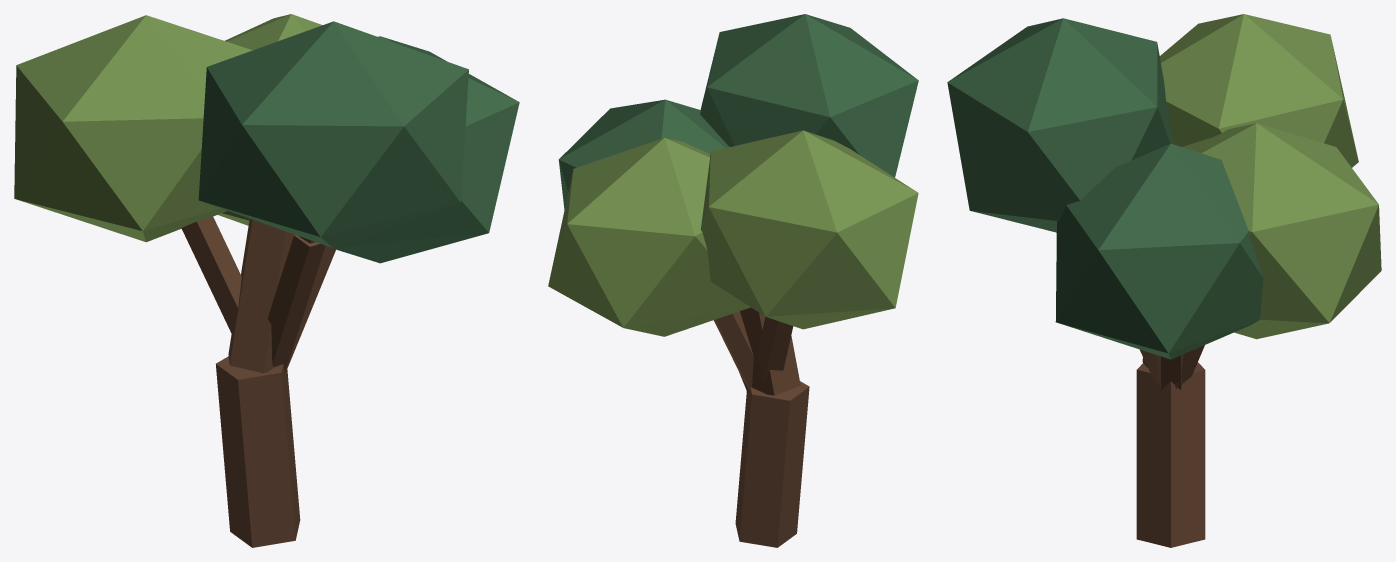
Rendered from Broadleaf_A.fbx.
The picture shows the model from 3 angles, left to right: view 1: azimuth 30°, elevation 25°; view 2: azimuth 150°, elevation 25°; view 3: azimuth 270°, elevation 25°; orthographic projection. The views are drawn at different scales.
Parts seen in each view (by area): view 1: Broadleaf_A; view 2: Broadleaf_A; view 3: Broadleaf_A.
Part boxes in pixels (bbox=[...]): Broadleaf_A: bbox=[14, 14, 519, 547]; Broadleaf_A: bbox=[548, 14, 918, 547]; Broadleaf_A: bbox=[947, 14, 1381, 547].
Bounding box in the file's own units: 1.96 × 2.4 × 1.8.
1 material, 1 textured.
